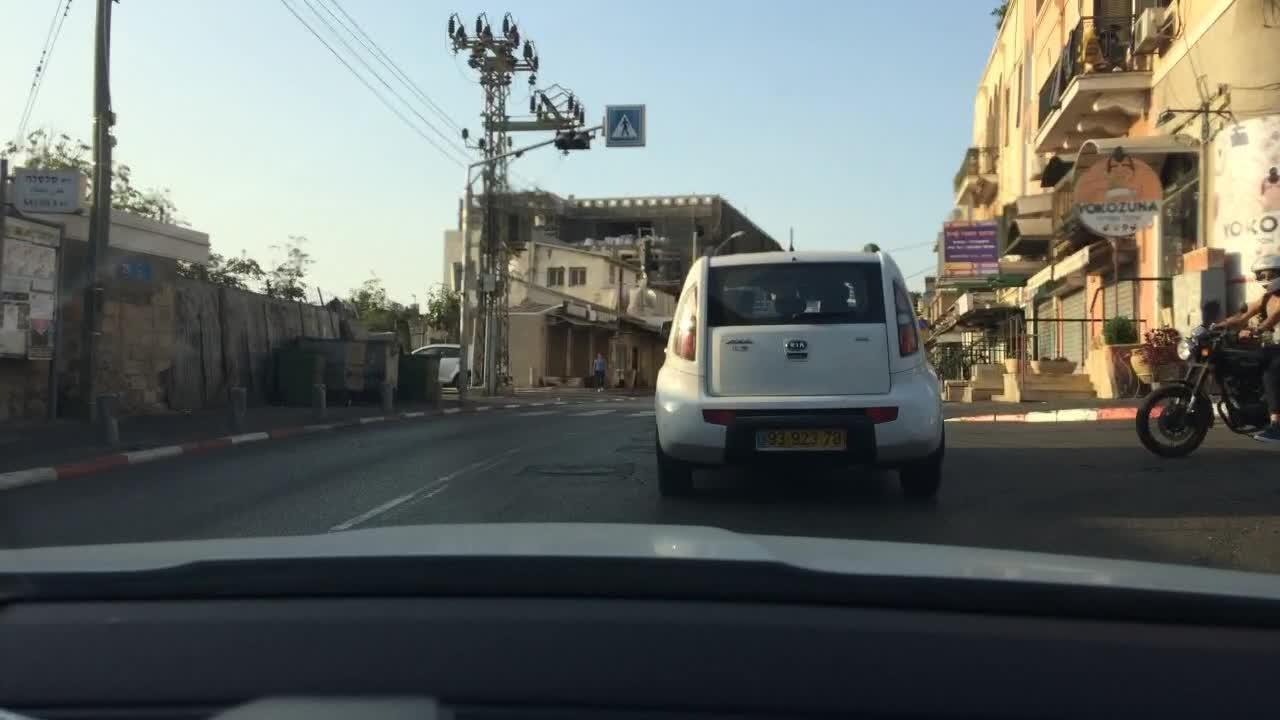kia: (785, 337, 811, 354)
